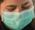with_mask: (1, 1, 35, 30)
